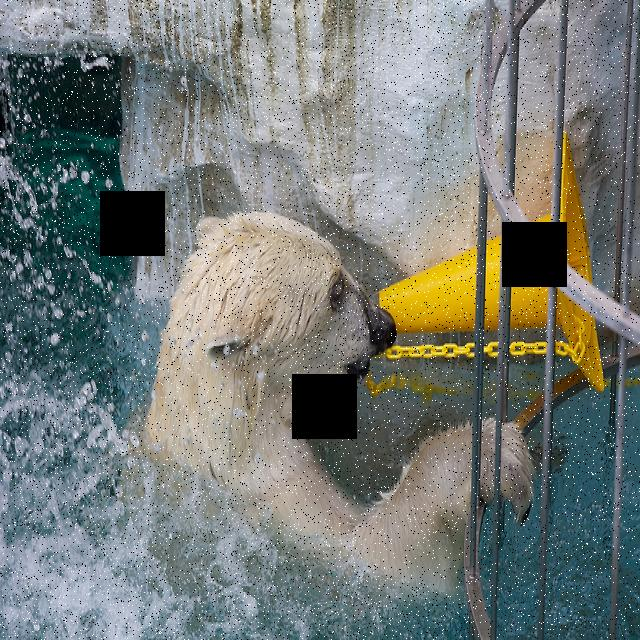Bear: (118, 203, 532, 621)
